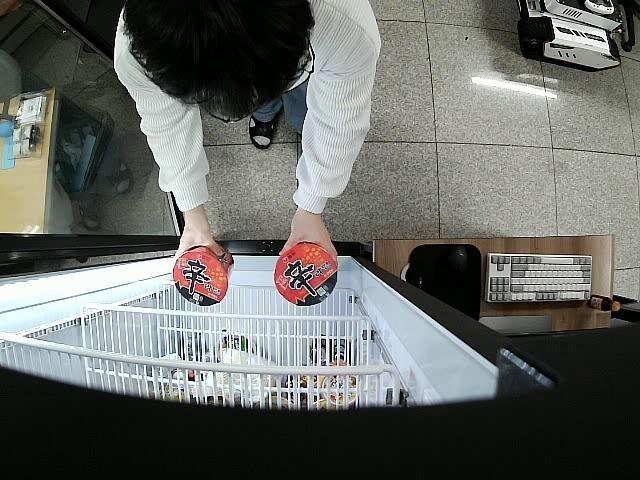01_ShinRamen_L: (274, 242, 338, 306), (172, 248, 236, 305)
